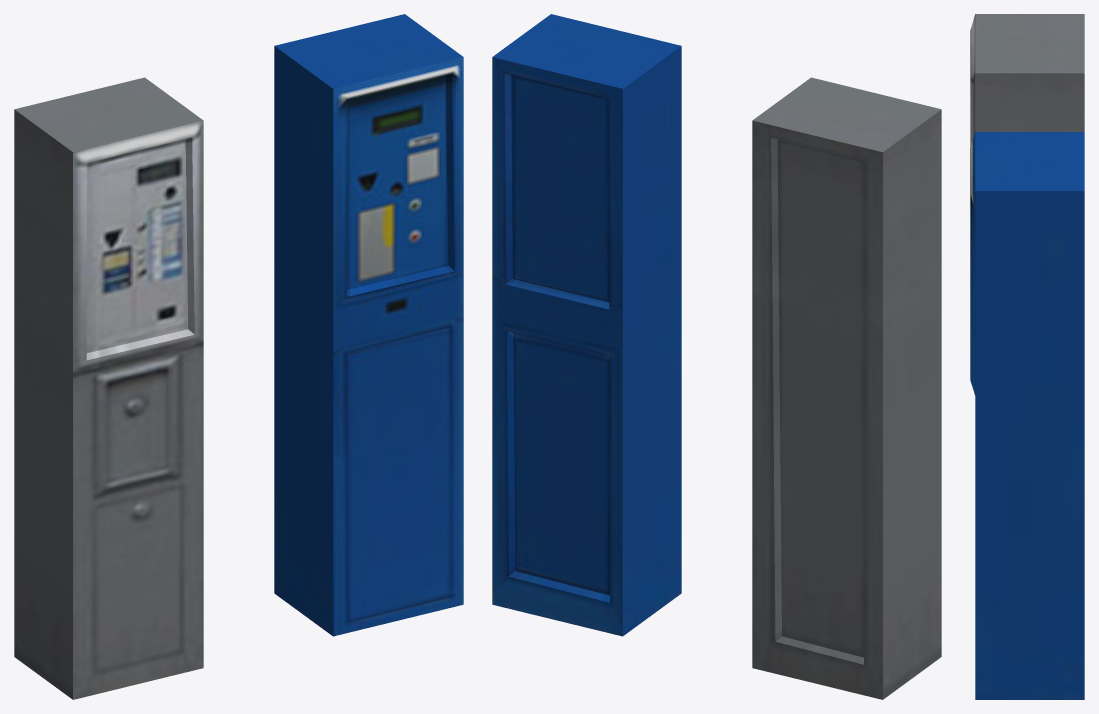
File: Lockers.FBX
The picture shows the model from 3 angles, left to right: view 1: azimuth 30°, elevation 25°; view 2: azimuth 150°, elevation 25°; view 3: azimuth 270°, elevation 25°; orthographic projection. The views are drawn at different scales.
Parts seen in each view (by area): view 1: parko01, parko02; view 2: parko01, parko02; view 3: parko02, parko01.
Part boxes in pixels (x1,y1,x2,y2): parko01: [14, 77, 203, 699]; parko02: [274, 14, 463, 636]; parko01: [752, 77, 941, 699]; parko02: [492, 14, 681, 636]; parko02: [970, 132, 1084, 699]; parko01: [970, 14, 1084, 147].
Size of the model in its own units: 217 by 291 by 59.12.
Materials: 1 (1 with a texture image).
